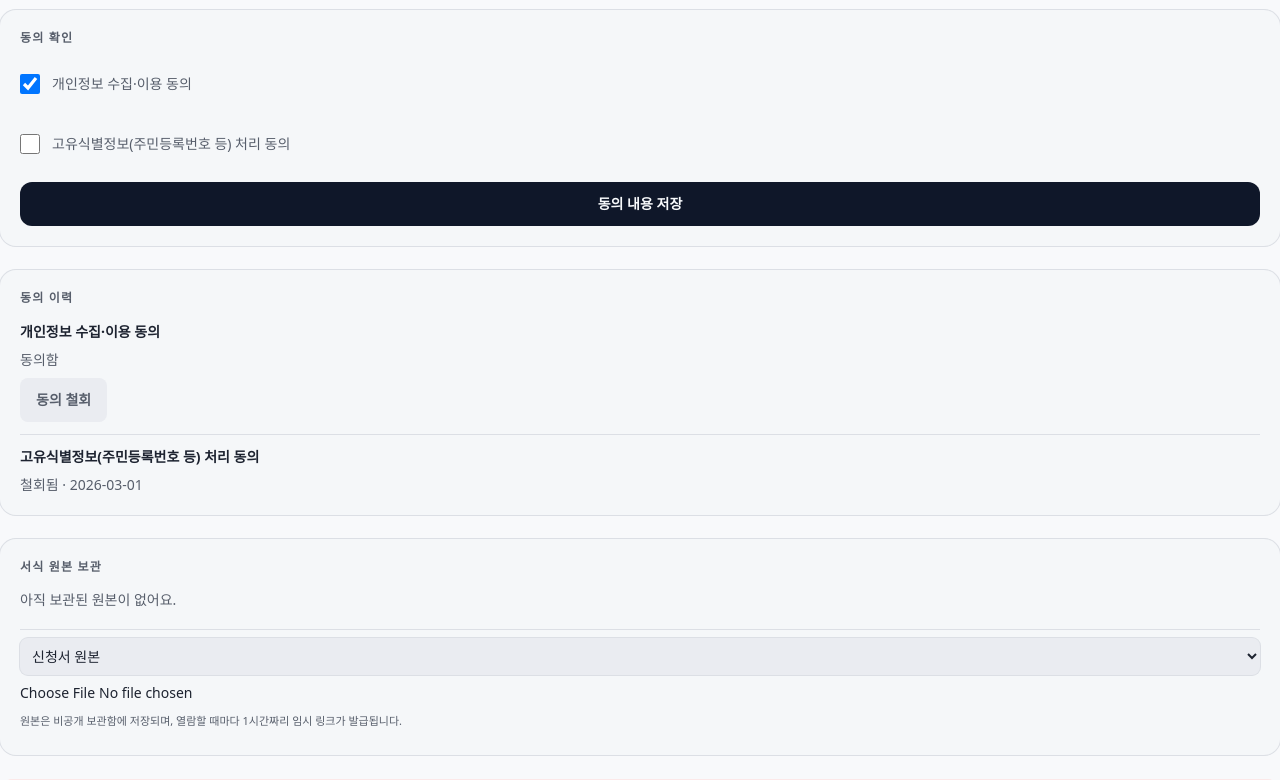
Test: ApplicationDetailClient — 동의 철회(withdrawConsent) › 철회는 바로 실행하지 않고 확인 단계를 거친다
(page scrolled)
Click the button with aria-label "개인정보 수집·이용 동의 철회". click: (64, 400)
box: top-left (20, 378), bottom-right (107, 422)
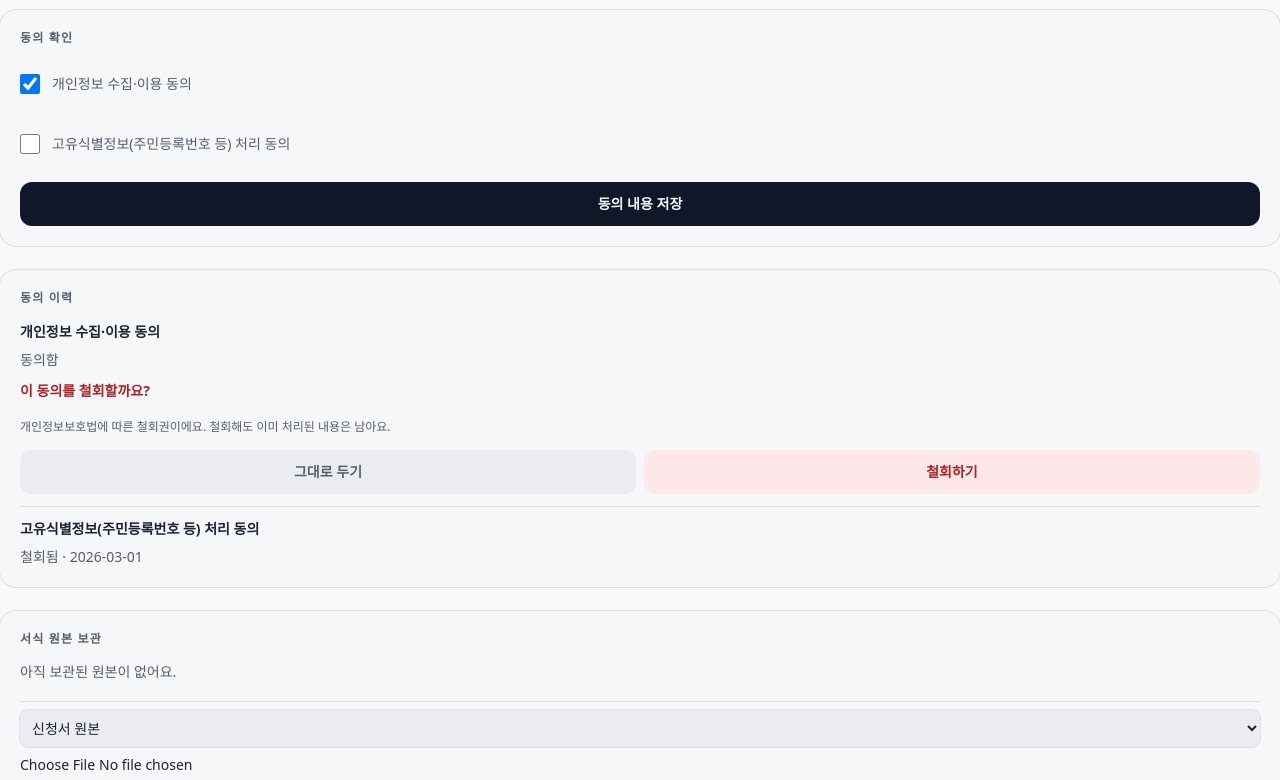
Expected: the text "이 동의를 철회할까요?" is shown, top-left (20, 381), bottom-right (150, 400)
